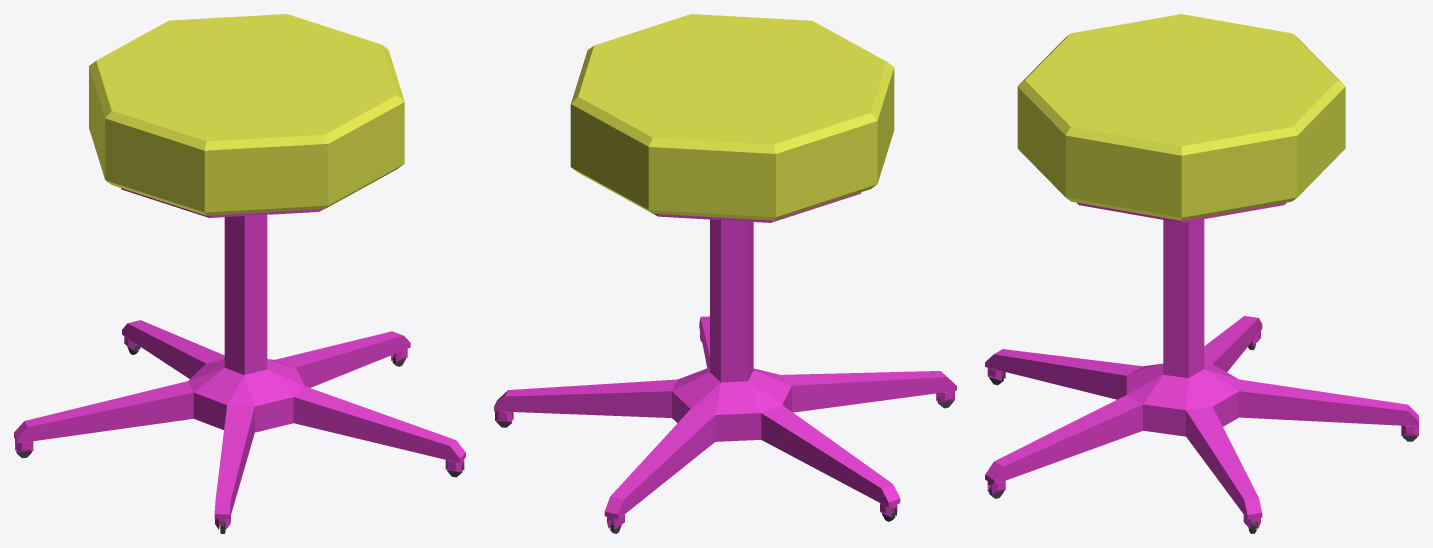
File: Chair_08.fbx
3 renders of one model, left to right at view 1: azimuth 30°, elevation 25°; view 2: azimuth 150°, elevation 25°; view 3: azimuth 270°, elevation 25°, orthographic. The views are drawn at different scales.
Visible parts, largest first — view 1: Chair_08; view 2: Chair_08; view 3: Chair_08.
Boxes of the visible parts, x1,y1,x2,y2 form: Chair_08: [14, 14, 465, 533]; Chair_08: [494, 14, 956, 533]; Chair_08: [985, 14, 1418, 533].
Size of the model in its own units: 55.88 by 48.77 by 53.15.
